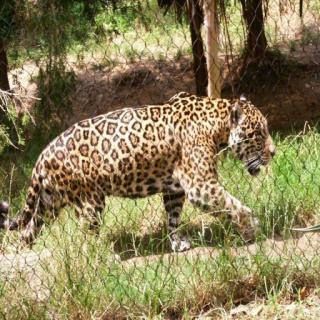Leopard: (10, 84, 288, 262)
